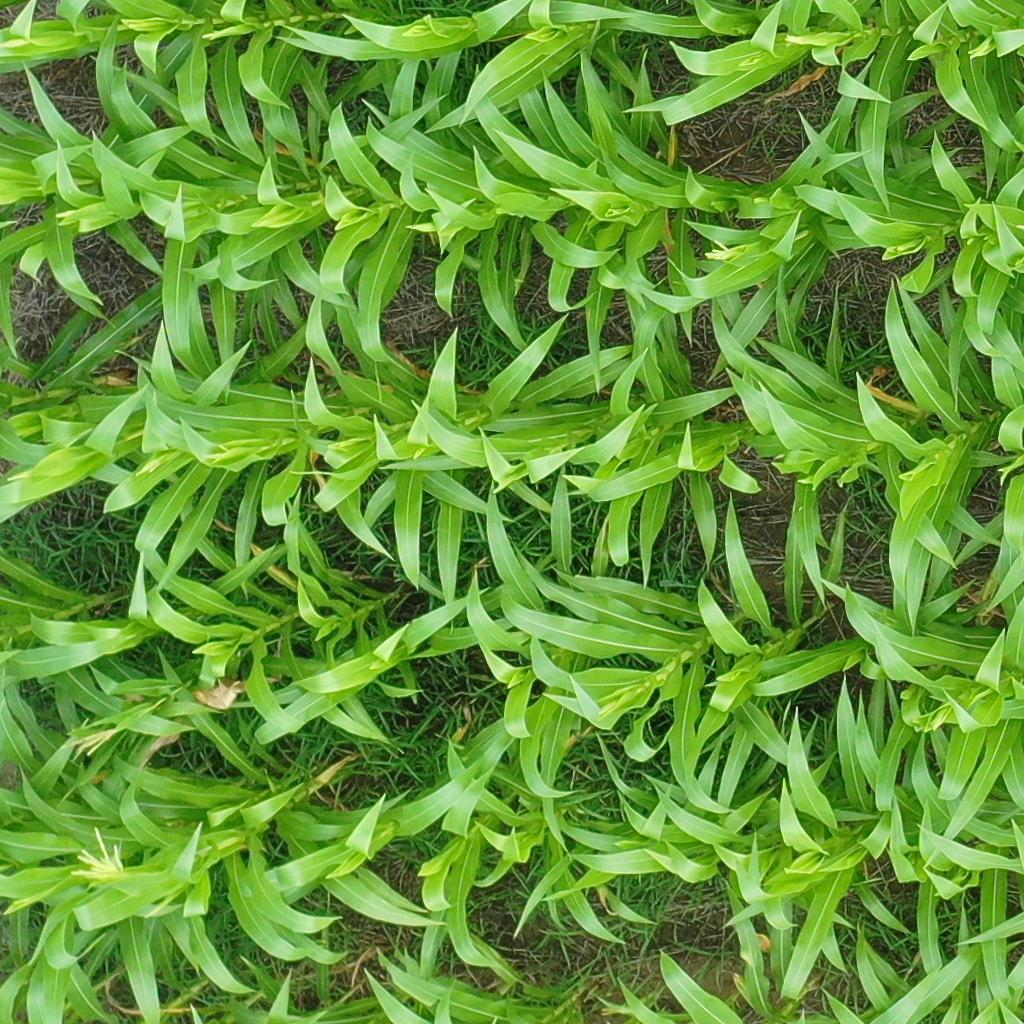Tassel: (68, 827, 128, 888), (61, 725, 121, 759), (704, 235, 747, 263), (202, 438, 231, 467), (969, 32, 998, 59), (925, 703, 948, 732), (132, 459, 162, 480), (54, 204, 80, 227), (595, 695, 622, 717), (786, 33, 812, 48), (199, 29, 235, 38)
